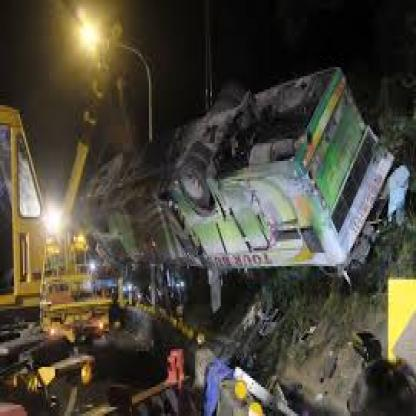accident: (62, 68, 416, 307)
